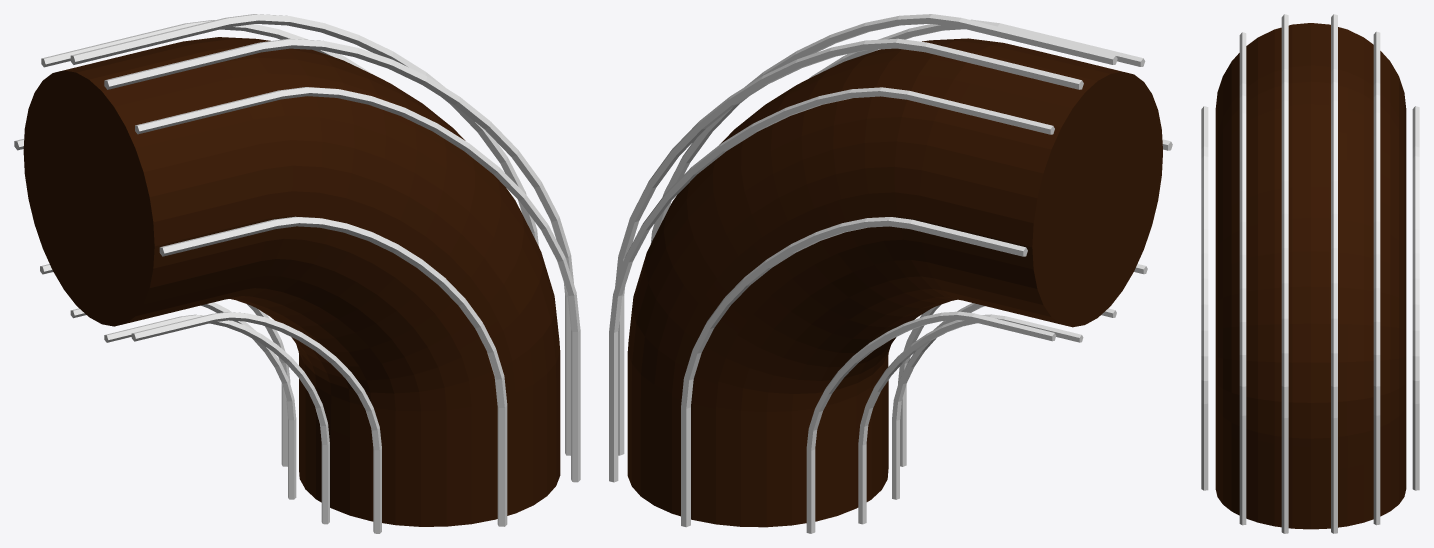
Rendered from pipe_L_2.fbx.
3 views of the same model, side by side, from view 1: azimuth 30°, elevation 25°; view 2: azimuth 150°, elevation 25°; view 3: azimuth 270°, elevation 25° (orthographic). The views are drawn at different scales.
Parts seen in each view (by area): view 1: BézierCurve, BézierCurve.005, BézierCurve.003, BézierCurve.001, BézierCurve.004, BézierCurve.008, BézierCurve.009, BézierCurve.010, BézierCurve.006, BézierCurve.007; view 2: BézierCurve, BézierCurve.006, BézierCurve.004, BézierCurve.002, BézierCurve.003, BézierCurve.007, BézierCurve.010, BézierCurve.005, BézierCurve.009, BézierCurve.008; view 3: BézierCurve, BézierCurve.003, BézierCurve.006, BézierCurve.005, BézierCurve.004, BézierCurve.001, BézierCurve.002.
Boxes of the visible parts, left/top/right/bottom form: BézierCurve: left=23, top=37, right=560, bottom=526; BézierCurve.005: left=135, top=87, right=580, bottom=482; BézierCurve.003: left=104, top=38, right=573, bottom=455; BézierCurve.001: left=159, top=216, right=507, bottom=526; BézierCurve.004: left=70, top=14, right=538, bottom=246; BézierCurve.008: left=131, top=312, right=381, bottom=533; BézierCurve.009: left=104, top=314, right=329, bottom=524; BézierCurve.010: left=70, top=302, right=296, bottom=499; BézierCurve.006: left=41, top=20, right=373, bottom=74; BézierCurve.007: left=40, top=264, right=290, bottom=466; BézierCurve: left=627, top=38, right=1162, bottom=527; BézierCurve.006: left=609, top=87, right=1054, bottom=482; BézierCurve.004: left=615, top=38, right=1083, bottom=455; BézierCurve.002: left=681, top=217, right=1027, bottom=527; BézierCurve.003: left=650, top=14, right=1117, bottom=243; BézierCurve.007: left=806, top=311, right=1056, bottom=533; BézierCurve.010: left=858, top=314, right=1083, bottom=524; BézierCurve.005: left=809, top=19, right=1145, bottom=78; BézierCurve.009: left=892, top=303, right=1116, bottom=499; BézierCurve.008: left=898, top=264, right=1147, bottom=466; BézierCurve: left=1215, top=23, right=1406, bottom=529; BézierCurve.003: left=1281, top=14, right=1288, bottom=533; BézierCurve.006: left=1373, top=31, right=1380, bottom=525; BézierCurve.005: left=1239, top=32, right=1246, bottom=525; BézierCurve.004: left=1331, top=14, right=1337, bottom=533; BézierCurve.001: left=1201, top=106, right=1208, bottom=490; BézierCurve.002: left=1412, top=106, right=1419, bottom=490.
Bounding box in the file's own units: 414 × 418 × 229.
